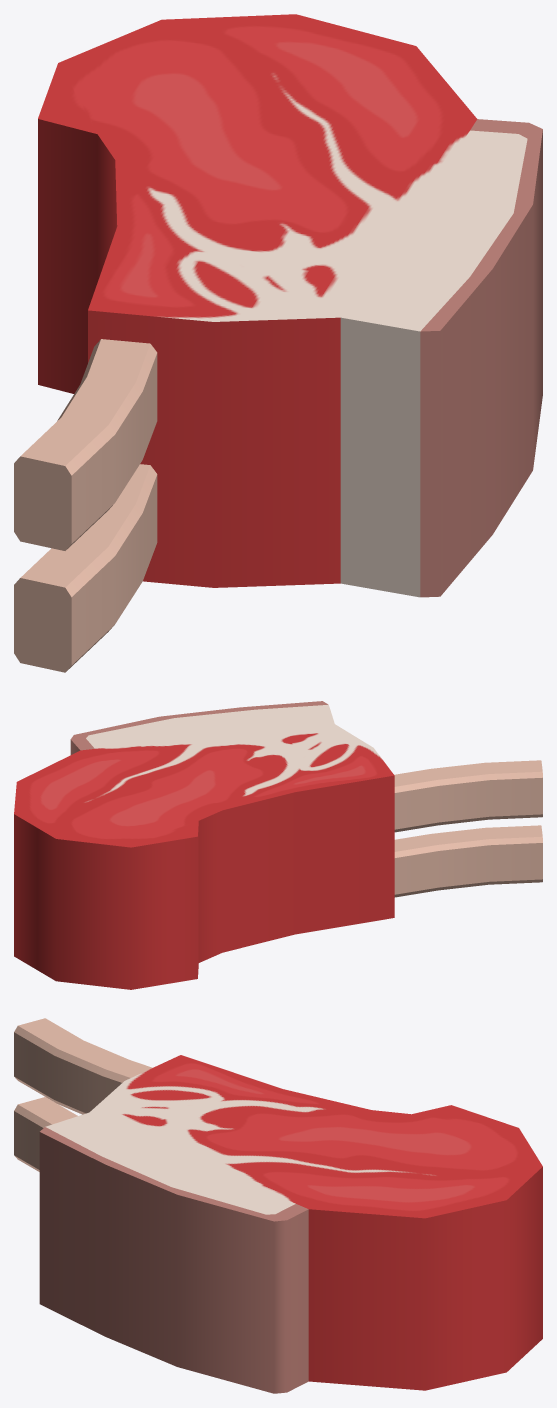
Rendered from Suon cuu.FBX.
The picture shows the model from 3 angles, top to bottom: view 1: azimuth 30°, elevation 25°; view 2: azimuth 150°, elevation 25°; view 3: azimuth 270°, elevation 25°; orthographic projection. The views are drawn at different scales.
Parts seen in each view (by area): view 1: Box1273; view 2: Box1273; view 3: Box1273.
Part boxes in pixels (x1,y1,x2,y2): Box1273: (14,14,542,672); Box1273: (14,701,542,989); Box1273: (14,1018,542,1393).
Size of the model in its own units: 1.83 by 0.6623 by 1.84.
